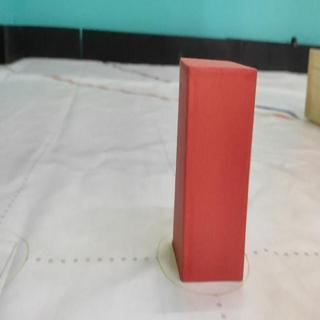redbox: (172, 58, 257, 280)
